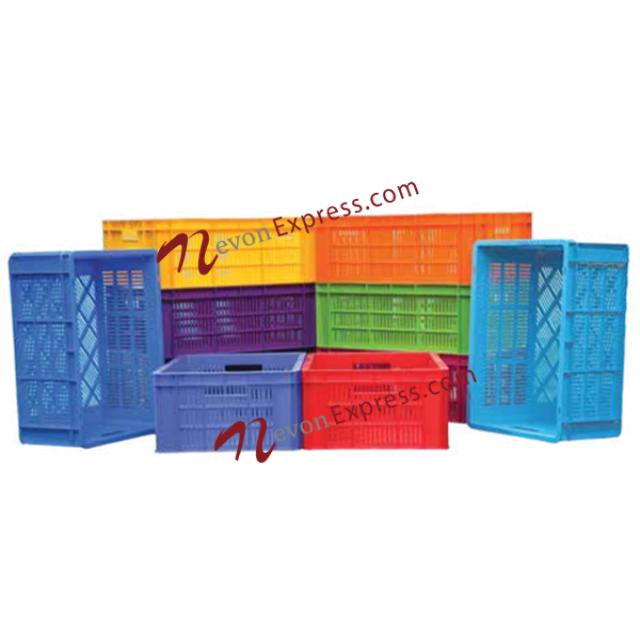basket: (103, 200, 533, 290), (7, 243, 170, 453), (467, 237, 629, 445), (152, 351, 305, 463), (301, 352, 450, 451), (159, 279, 320, 360), (317, 285, 471, 355), (438, 354, 469, 423)
